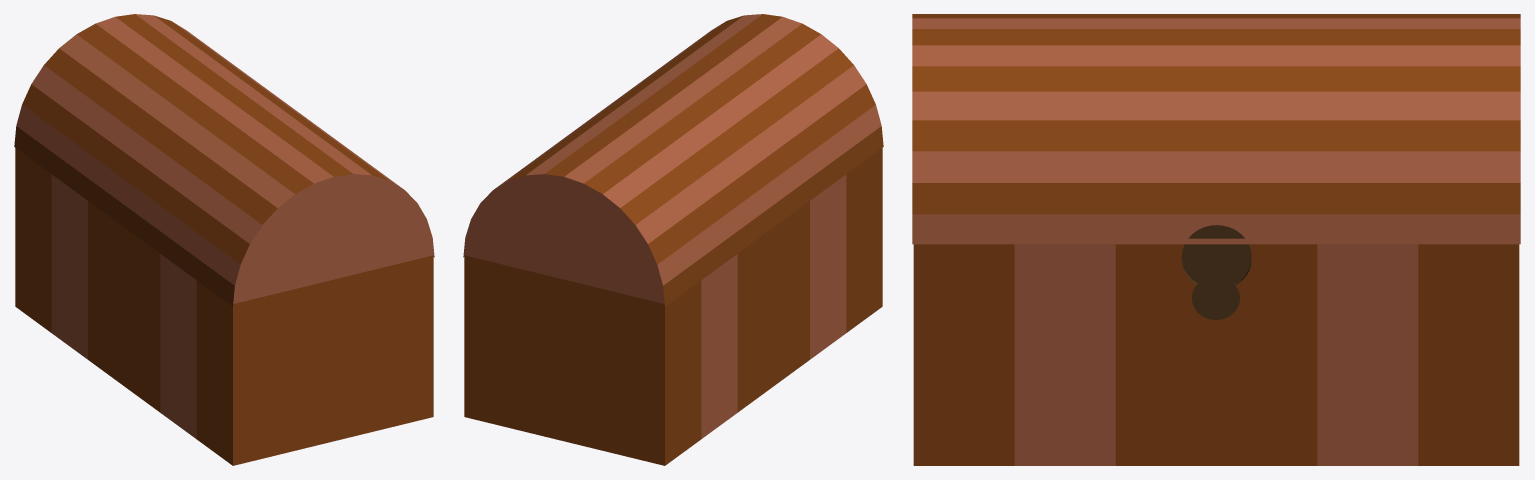
The model's file is sandk.fbx.
3 views of the same model, side by side, from view 1: azimuth 30°, elevation 25°; view 2: azimuth 150°, elevation 25°; view 3: azimuth 270°, elevation 25° (orthographic). The views are drawn at different scales.
Parts seen in each view (by area): view 1: Cylinder; view 2: Cylinder; view 3: Cylinder.
Boxes of the visible parts, x1,y1,x2,y2 form: Cylinder: (14, 14, 434, 465); Cylinder: (463, 14, 883, 465); Cylinder: (912, 14, 1520, 465).
Size of the model in its own units: 265 by 328 by 490.
